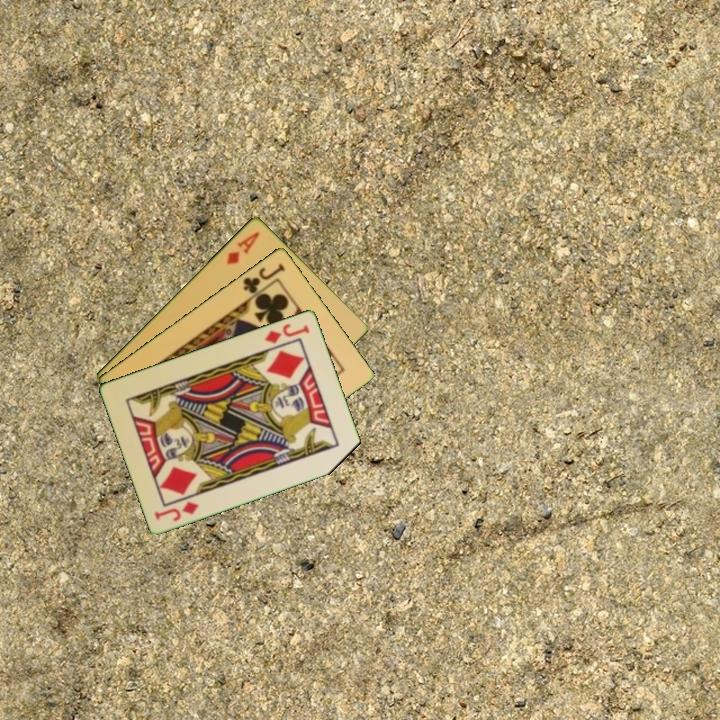Ad: (223, 228, 263, 267)
Jc: (239, 259, 288, 296)
Jd: (261, 320, 312, 346), (151, 498, 202, 524)
